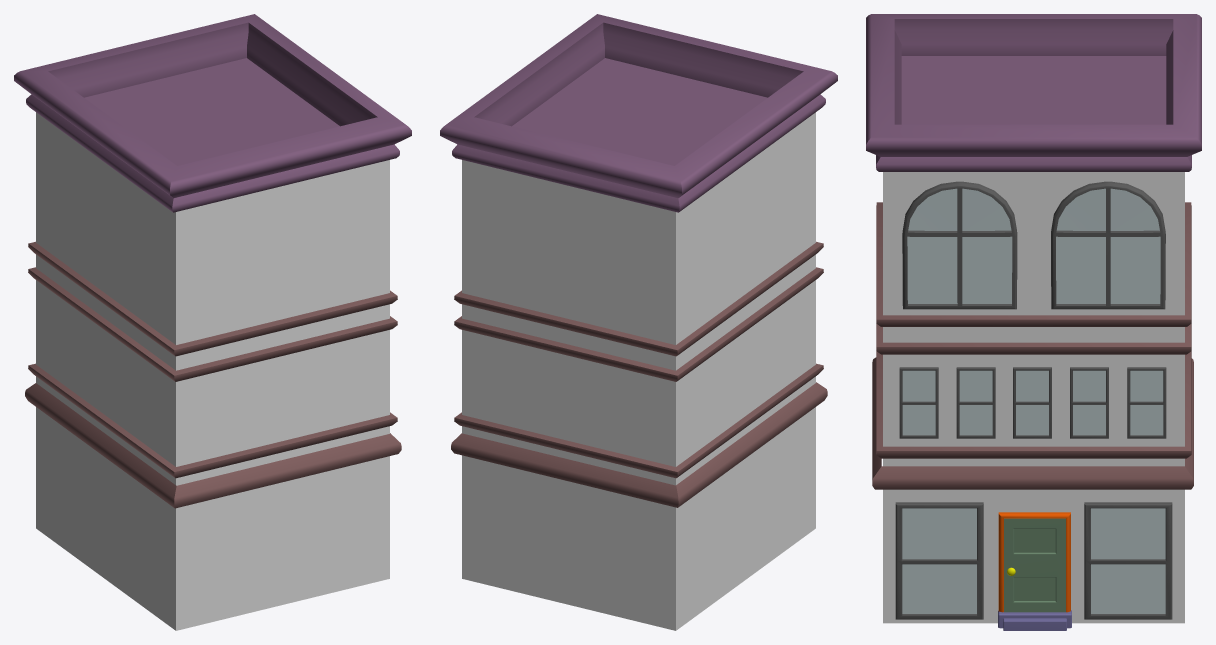
The model's file is Building_3.fbx.
The picture shows the model from 3 angles, left to right: view 1: azimuth 30°, elevation 25°; view 2: azimuth 150°, elevation 25°; view 3: azimuth 270°, elevation 25°; orthographic projection. The views are drawn at different scales.
Parts seen in each view (by area): view 1: Building_Type_Base, Top_Type_5, Molding_Type_5, Molding_Type_6, Molding_Type_2, Molding_Type_4; view 2: Building_Type_Base, Top_Type_5, Molding_Type_5, Molding_Type_6, Molding_Type_2, Molding_Type_4; view 3: Top_Type_5, Building_Type_Base, Window_11, Window_12, Window_Type_10, Window_Type_9, Molding_Type_5, Door_Type_5, Molding_Type_6, Molding_Type_2, Molding_Type_4, Window_21 (+7 smaller).
Boxes of the visible parts, bbox=[...] form: Building_Type_Base: bbox=[36, 112, 389, 630]; Top_Type_5: bbox=[14, 14, 411, 212]; Molding_Type_5: bbox=[25, 383, 401, 508]; Molding_Type_6: bbox=[28, 363, 397, 478]; Molding_Type_2: bbox=[28, 241, 397, 356]; Molding_Type_4: bbox=[28, 267, 397, 381]; Building_Type_Base: bbox=[462, 112, 815, 630]; Top_Type_5: bbox=[440, 14, 837, 212]; Molding_Type_5: bbox=[451, 382, 827, 507]; Molding_Type_6: bbox=[454, 363, 823, 478]; Molding_Type_2: bbox=[454, 241, 823, 356]; Molding_Type_4: bbox=[454, 267, 823, 381]; Top_Type_5: bbox=[866, 14, 1201, 171]; Building_Type_Base: bbox=[883, 172, 1184, 623]; Window_11: bbox=[902, 181, 1017, 309]; Window_12: bbox=[1051, 181, 1165, 309]; Window_Type_10: bbox=[895, 502, 983, 619]; Window_Type_9: bbox=[1084, 502, 1172, 619]; Molding_Type_5: bbox=[872, 357, 1193, 489]; Door_Type_5: bbox=[1004, 518, 1065, 612]; Molding_Type_6: bbox=[876, 351, 1191, 458]; Molding_Type_2: bbox=[876, 202, 1191, 326]; Molding_Type_4: bbox=[876, 324, 1191, 354]; Window_21: bbox=[899, 367, 938, 438].
Bounding box in the file's own units: 19.84 × 35.91 × 22.07.
